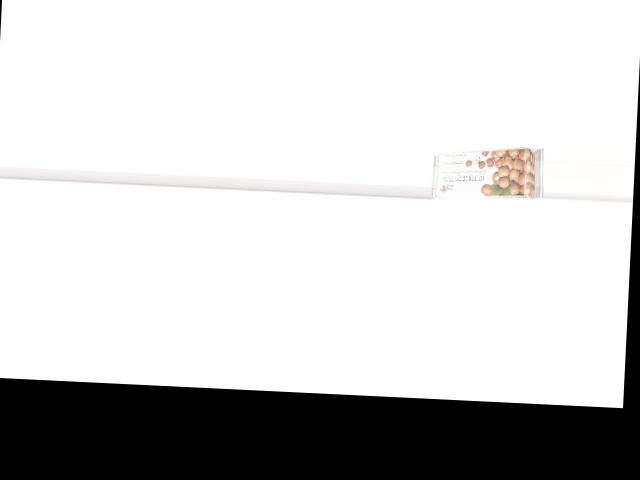chocolate: (430, 142, 543, 200)
